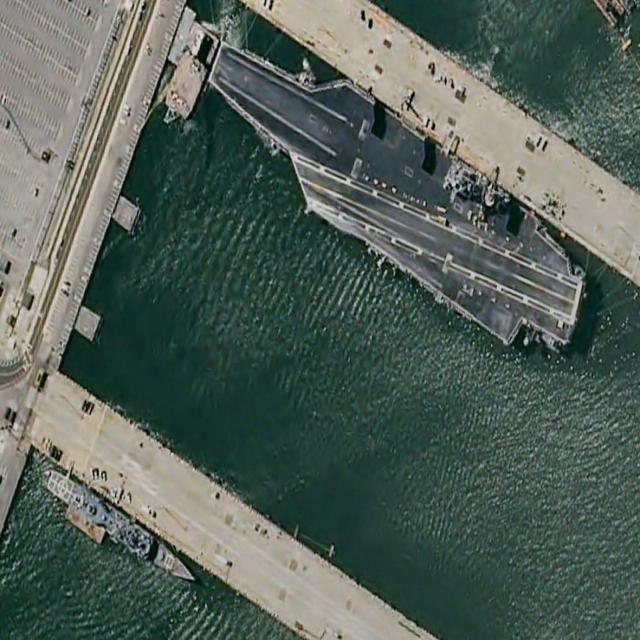Aircraft Carrier: (191, 4, 600, 379)
Frigate: (44, 465, 201, 591)
